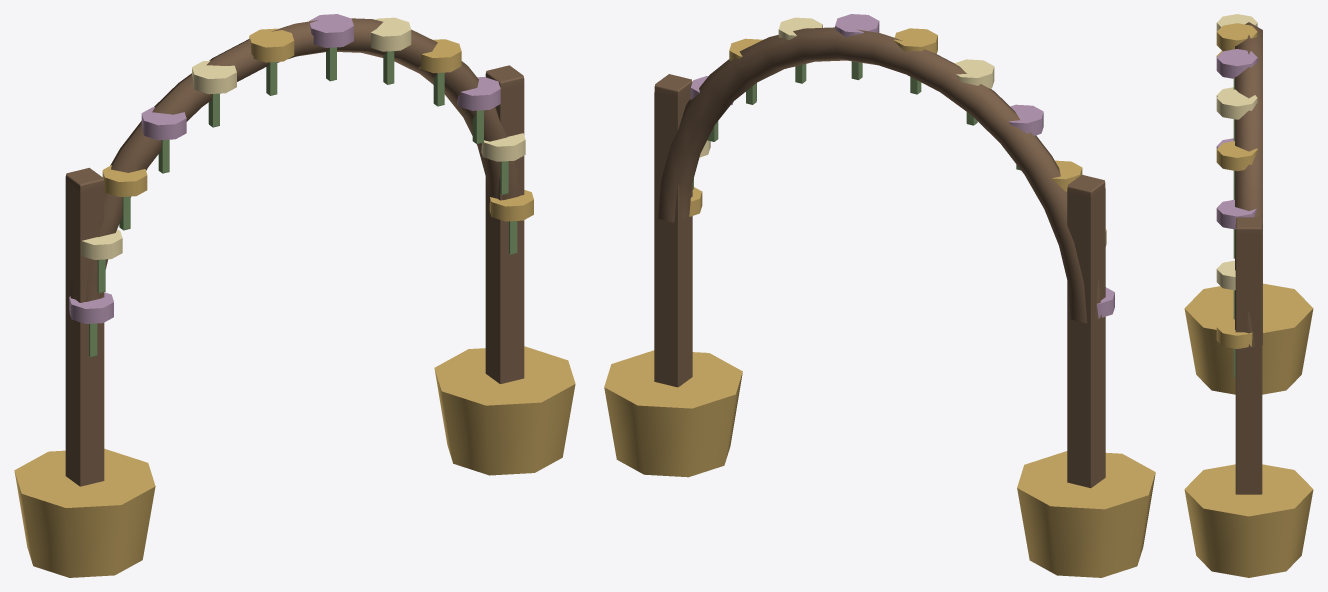
The model's file is springarch-3.glb.
The picture shows the model from 3 angles, left to right: view 1: azimuth 30°, elevation 25°; view 2: azimuth 150°, elevation 25°; view 3: azimuth 270°, elevation 25°; orthographic projection. The views are drawn at different scales.
Parts seen in each view (by area): view 1: springarch-3-0; view 2: springarch-3-0; view 3: springarch-3-0.
Boxes of the visible parts, x1=… form: springarch-3-0: x1=14, y1=14, x2=575, y2=577; springarch-3-0: x1=604, y1=14, x2=1155, y2=577; springarch-3-0: x1=1184, y1=14, x2=1313, y2=577.
Size of the model in its own units: 1.9 by 1.59 by 0.44.
